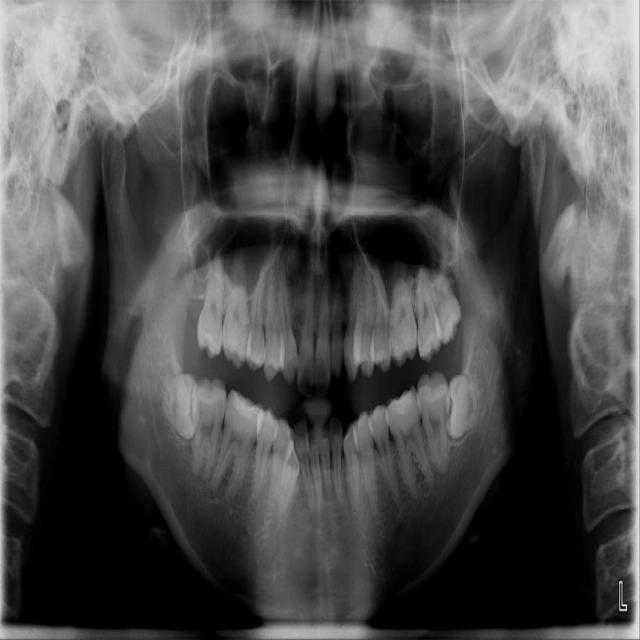impacted tooth: (448, 376, 491, 439), (159, 374, 198, 443)
